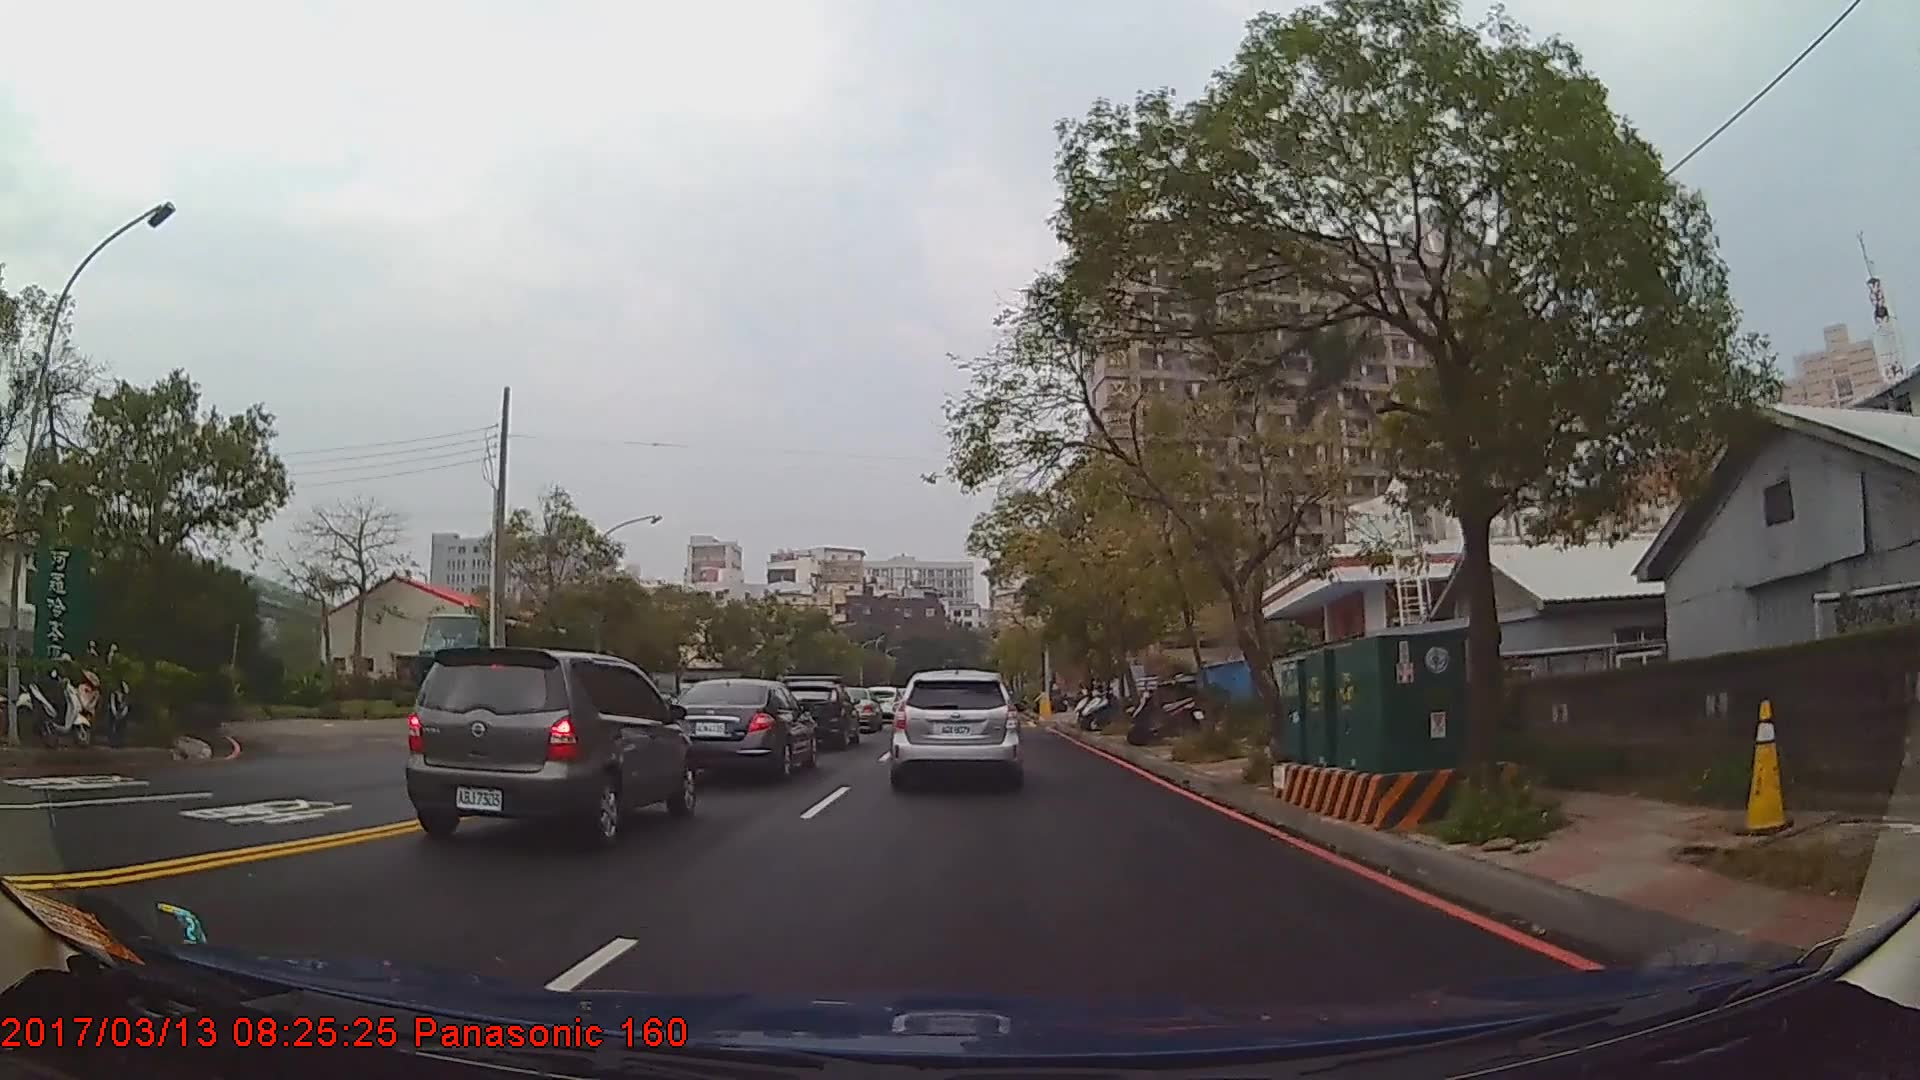vehicle: (402, 647, 699, 853), (661, 679, 818, 781), (890, 671, 1022, 789), (773, 679, 857, 746), (829, 687, 881, 733)
